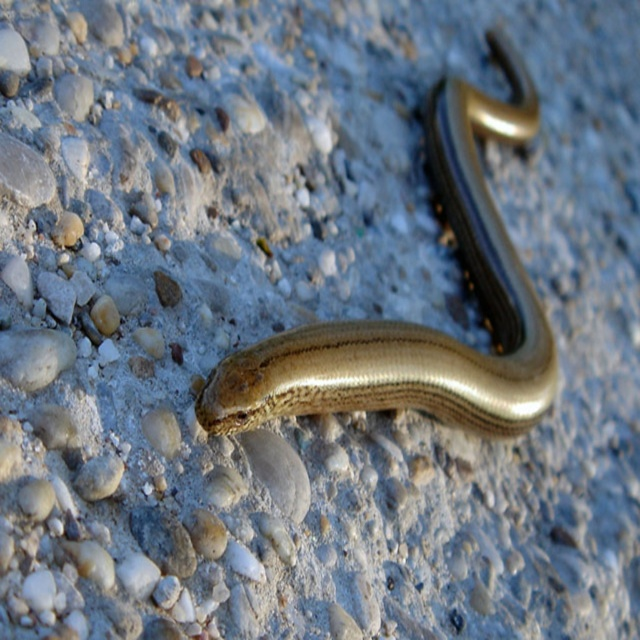Snake: (180, 33, 547, 453)
